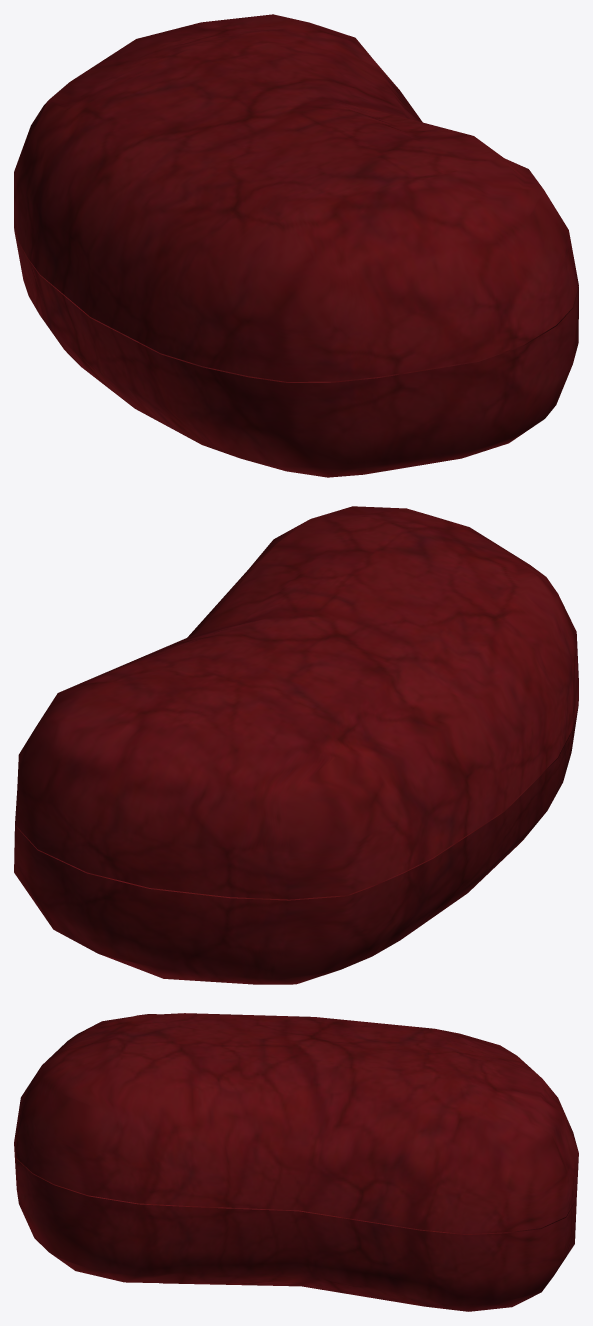
File: kidney.fbx
3 views of the same model, one above another, from view 1: azimuth 30°, elevation 25°; view 2: azimuth 150°, elevation 25°; view 3: azimuth 270°, elevation 25° (orthographic). The views are drawn at different scales.
Visible parts, largest first — view 1: polySurface9, polySurface8; view 2: polySurface9, polySurface8; view 3: polySurface9, polySurface8.
Boxes of the visible parts, x1,y1,x2,y2 form: polySurface9: (14, 14, 578, 381); polySurface8: (14, 229, 578, 477); polySurface9: (15, 506, 578, 899); polySurface8: (14, 700, 578, 984); polySurface9: (14, 1013, 578, 1234); polySurface8: (14, 1144, 576, 1311).
Size of the model in its own units: 16.23 by 11.89 by 25.16.
2 materials, 2 textured.
